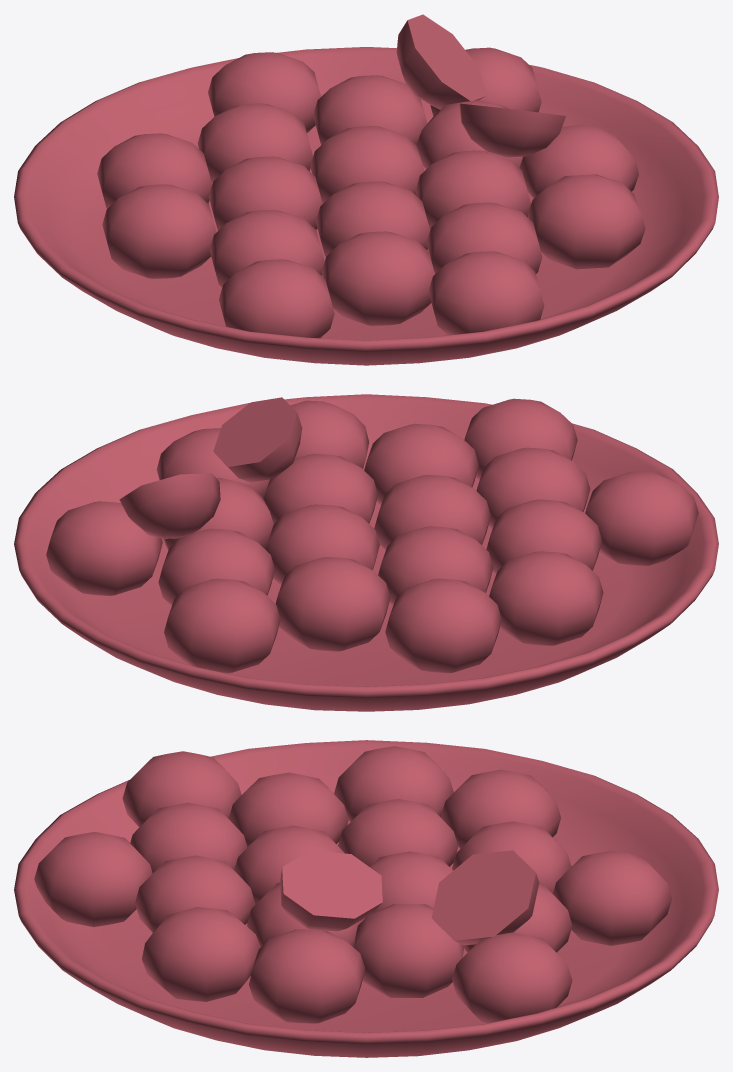
File: Oatmeal_Cookie_Balls_FBX.fbx
3 renders of one model, top to bottom at view 1: azimuth 30°, elevation 25°; view 2: azimuth 150°, elevation 25°; view 3: azimuth 270°, elevation 25°, orthographic.
Parts seen in each view (by area): view 1: polySurface21.002; view 2: polySurface21.002; view 3: polySurface21.002.
Part boxes in pixels (box(x1,y1,x2,y2)): polySurface21.002: box(14, 14, 718, 365); polySurface21.002: box(14, 394, 718, 711); polySurface21.002: box(14, 740, 718, 1057).
Bounding box in the file's own units: 29.47 × 7.18 × 29.39.
